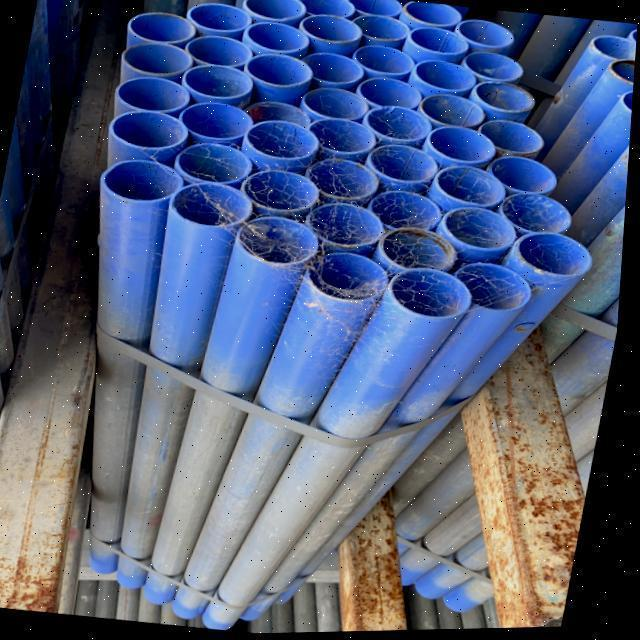pipe: (308, 249, 394, 303), (395, 271, 477, 321), (242, 214, 323, 264), (307, 153, 386, 204), (454, 265, 534, 315), (310, 201, 390, 250), (479, 156, 565, 201), (368, 136, 439, 189), (175, 181, 255, 228), (500, 192, 579, 238), (102, 159, 186, 202), (386, 224, 464, 270), (362, 190, 449, 231), (445, 209, 519, 257), (175, 99, 253, 144), (178, 138, 255, 183), (520, 234, 595, 280), (112, 108, 195, 149), (116, 72, 199, 112), (246, 168, 321, 212), (470, 117, 548, 159), (248, 118, 321, 162), (435, 166, 511, 208), (428, 126, 500, 169), (309, 117, 380, 160), (292, 50, 371, 87), (363, 106, 434, 146), (299, 83, 372, 121), (177, 63, 255, 98), (179, 34, 264, 66), (421, 93, 492, 131), (460, 45, 527, 85), (353, 77, 431, 109), (352, 43, 416, 82), (473, 78, 538, 116), (244, 49, 311, 85), (127, 10, 197, 44), (292, 12, 363, 45), (125, 36, 190, 72), (415, 59, 479, 95), (396, 1, 468, 32), (351, 9, 411, 43), (409, 27, 472, 59), (185, 1, 249, 32), (246, 17, 306, 50), (456, 19, 516, 51), (241, 99, 315, 124), (242, 0, 305, 21), (348, 0, 404, 22), (591, 35, 638, 61), (300, 0, 357, 20), (608, 57, 637, 85), (620, 92, 635, 114)
